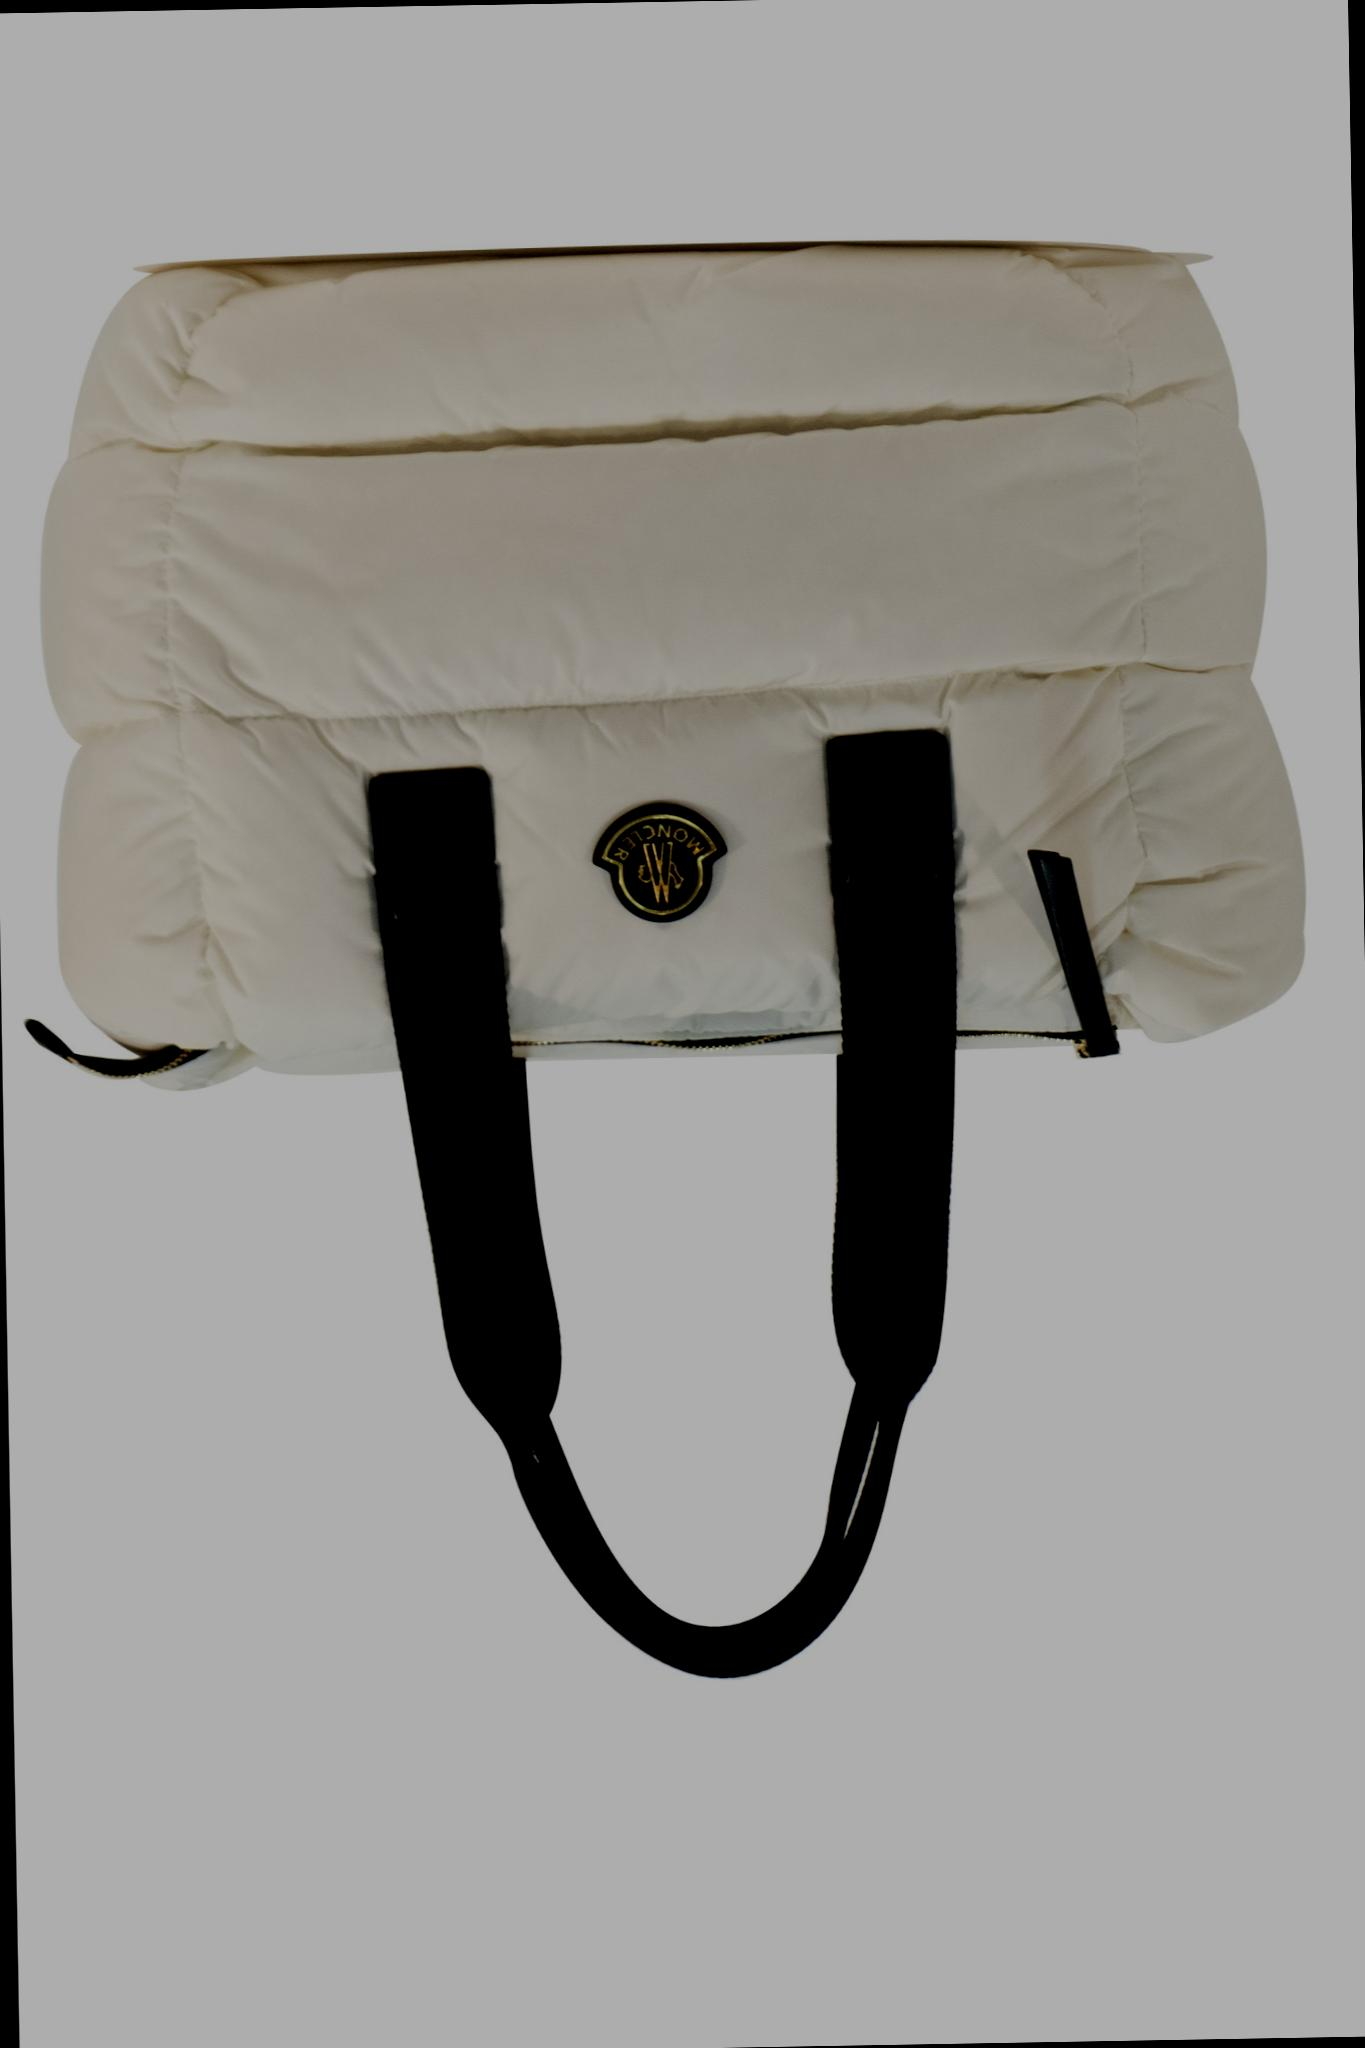MONCLER: (588, 799, 728, 924)
